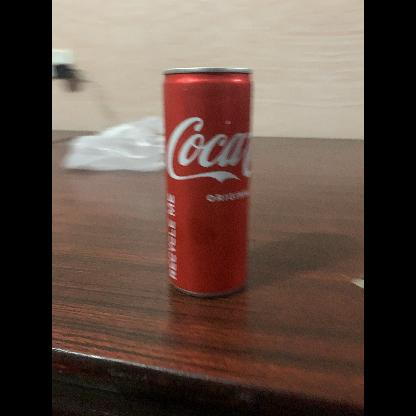Tin_Can: (160, 62, 256, 302)
